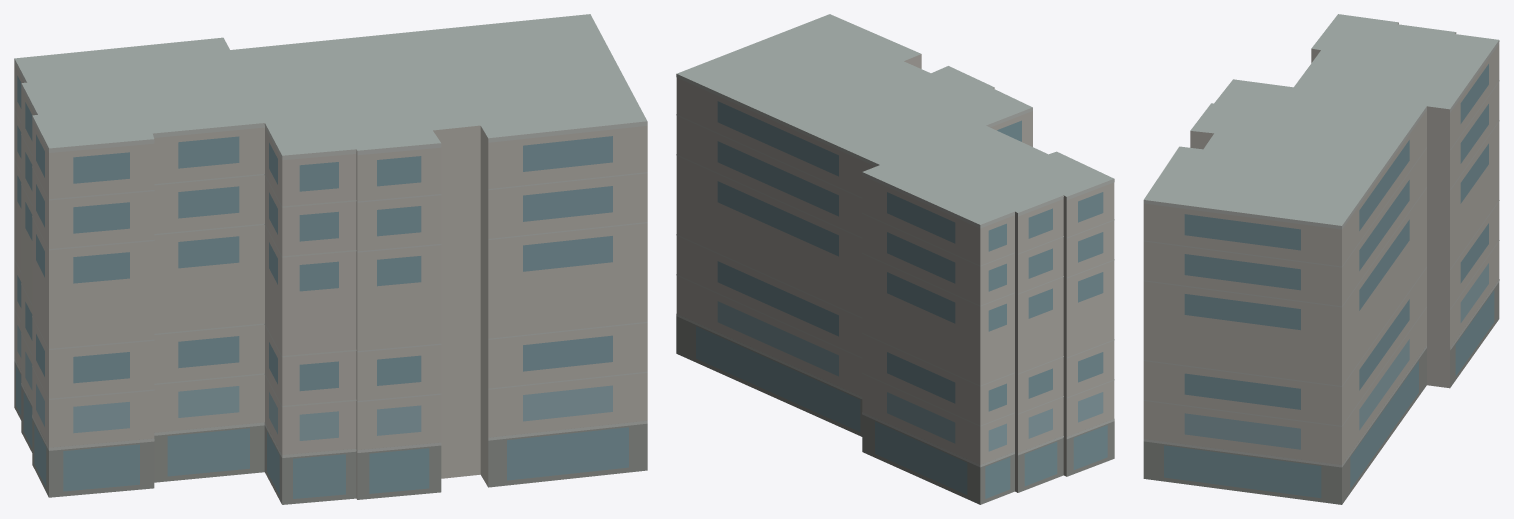
Rendered from survey-upis-33027097.glb.
3 views of the same model, side by side, from view 1: azimuth 30°, elevation 25°; view 2: azimuth 150°, elevation 25°; view 3: azimuth 270°, elevation 25° (orthographic). The views are drawn at different scales.
Parts seen in each view (by area): view 1: survey-upis-33027097.tmp; view 2: survey-upis-33027097.tmp; view 3: survey-upis-33027097.tmp.
Boxes of the visible parts, <box> form: survey-upis-33027097.tmp: <box>14,14,647,504</box>; survey-upis-33027097.tmp: <box>676,14,1114,504</box>; survey-upis-33027097.tmp: <box>1143,14,1499,504</box>.
Size of the model in its own units: 30.53 by 18.72 by 21.66.
